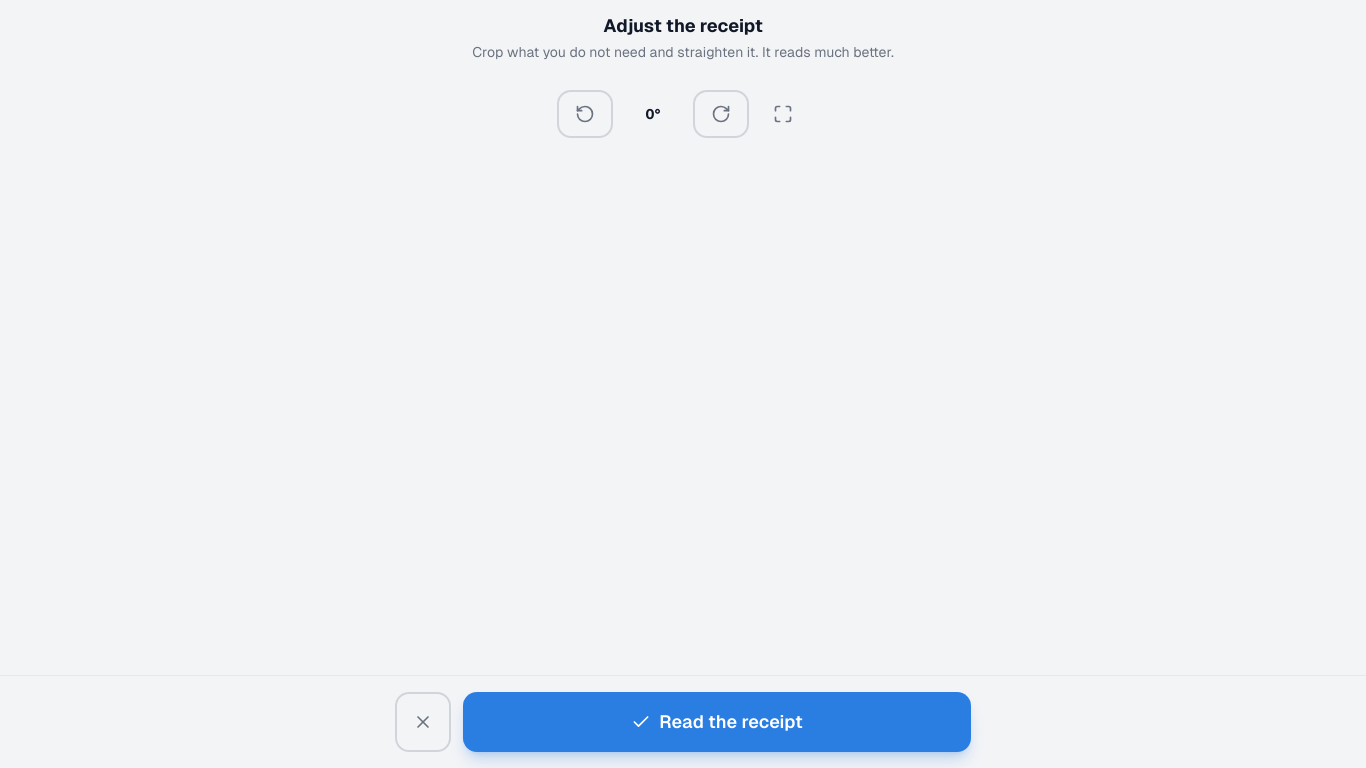
Test: pantalla de encuadre › el giro acumula y se ve en pantalla
Click the button named "Rotate right": [721, 114] box [693, 90, 749, 138]
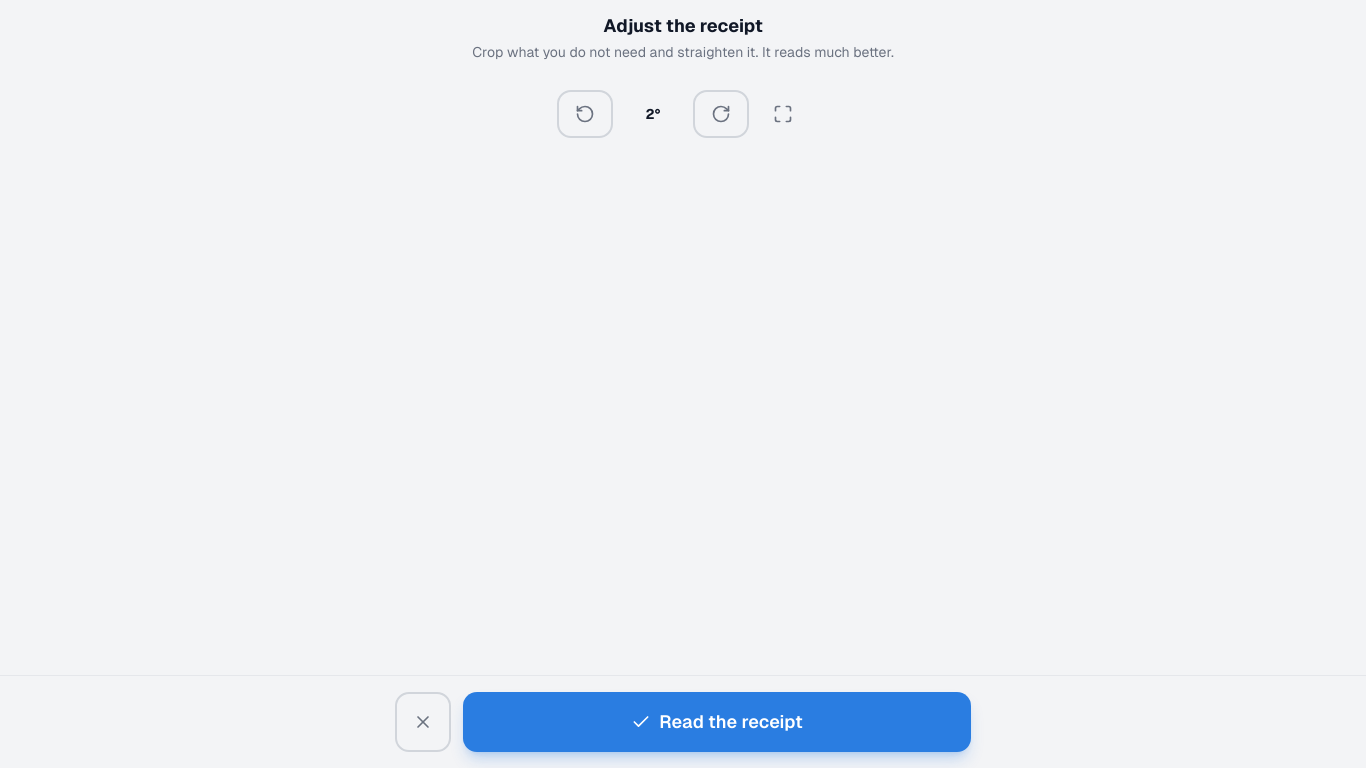
Click the button named "Rotate right": [721, 114] box [693, 90, 749, 138]
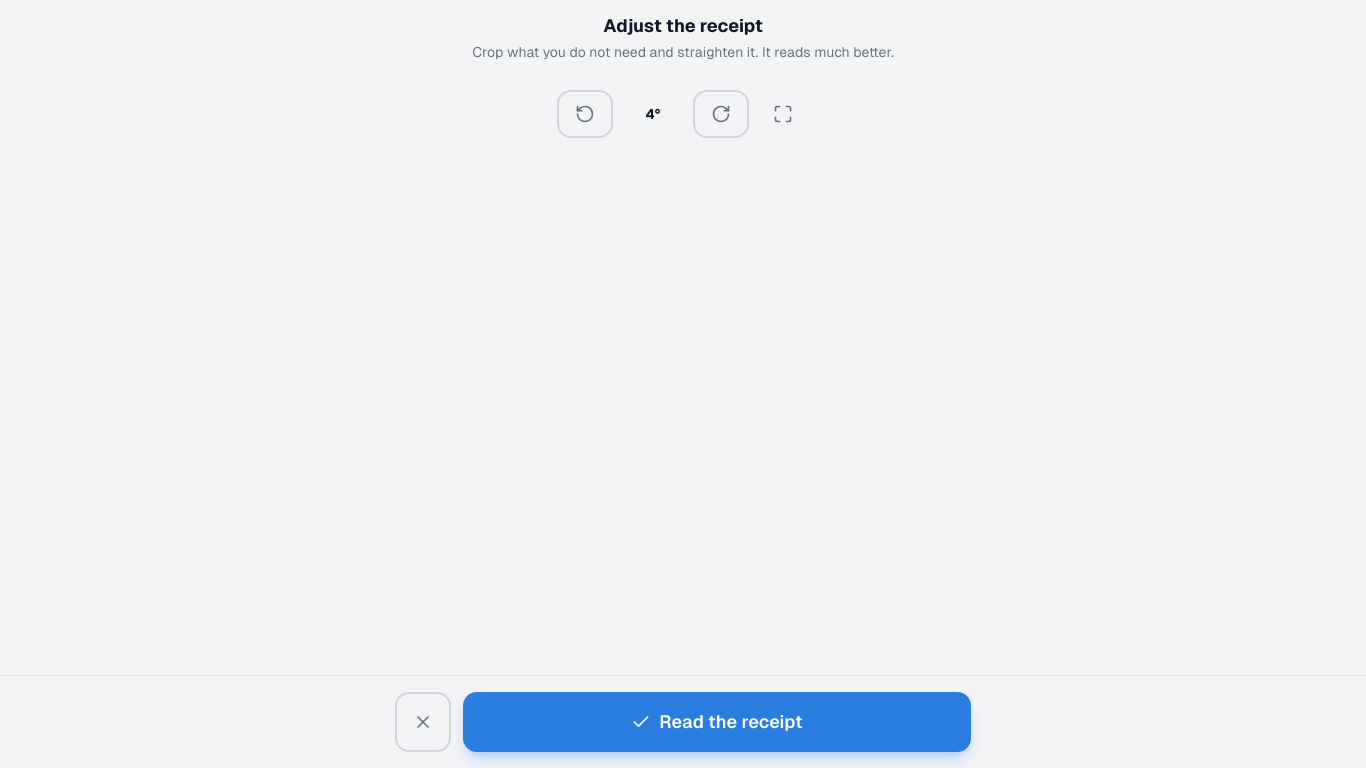
expect the text "4°" is shown: met, box [646, 106, 660, 122]
